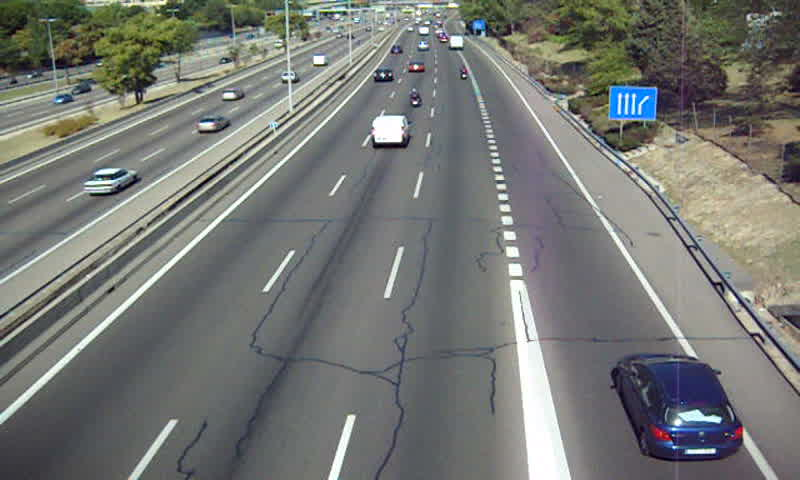car: (617, 352, 743, 458), (371, 67, 394, 84), (406, 62, 424, 75)
motorcycle: (406, 88, 421, 110), (459, 66, 469, 84)
van: (370, 116, 408, 148), (450, 34, 463, 51)
